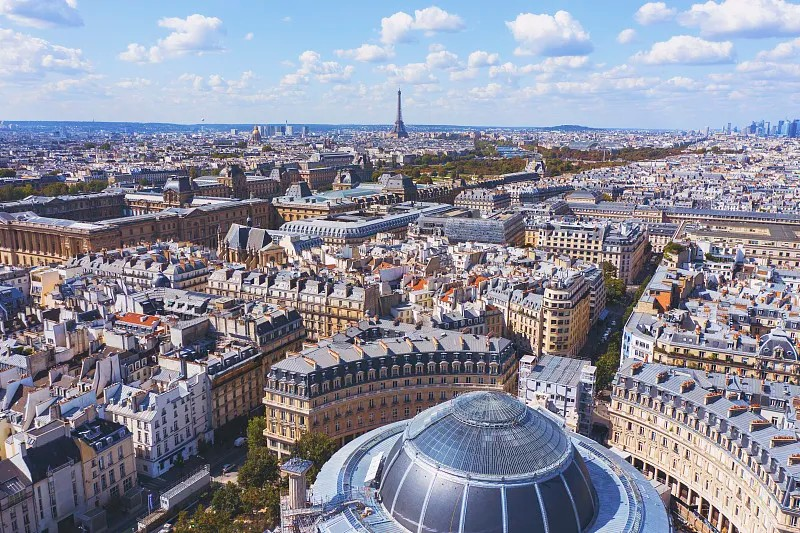Eiffel: (392, 85, 408, 136)
